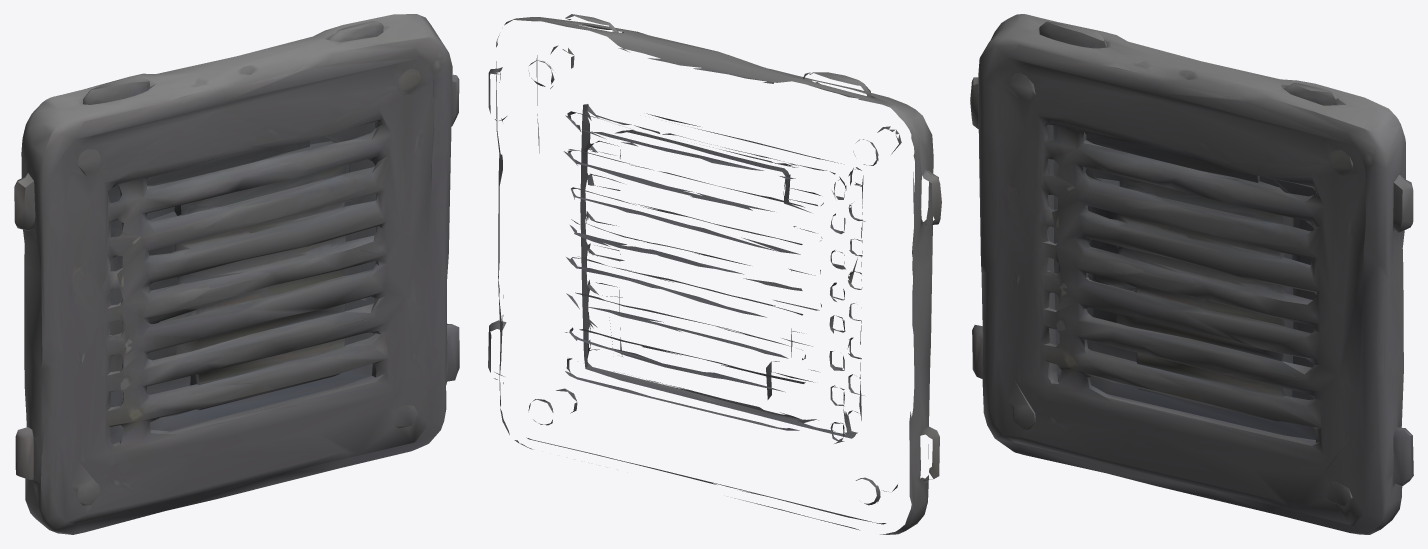
File: decor_vent_idle.glb
3 renders of one model, left to right at view 1: azimuth 30°, elevation 25°; view 2: azimuth 150°, elevation 25°; view 3: azimuth 330°, elevation 25°, orthographic. The views are drawn at different scales.
Parts seen in each view (by area): view 1: tripo_node_a0d2ef07-2a2f-4683-85f5-3241d5728e79; view 2: tripo_node_a0d2ef07-2a2f-4683-85f5-3241d5728e79; view 3: tripo_node_a0d2ef07-2a2f-4683-85f5-3241d5728e79.
Boxes of the visible parts, x1=… form: tripo_node_a0d2ef07-2a2f-4683-85f5-3241d5728e79: x1=14, y1=14, x2=459, y2=534; tripo_node_a0d2ef07-2a2f-4683-85f5-3241d5728e79: x1=488, y1=14, x2=941, y2=534; tripo_node_a0d2ef07-2a2f-4683-85f5-3241d5728e79: x1=970, y1=14, x2=1413, y2=534.
Bounding box in the file's own units: 0.5357 × 0.4999 × 0.0499.
1 material, 1 textured.
